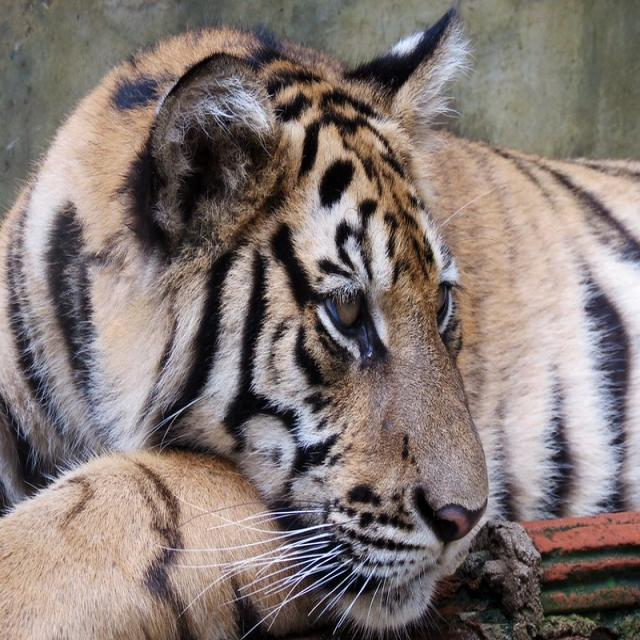Tiger: (14, 3, 612, 639)
